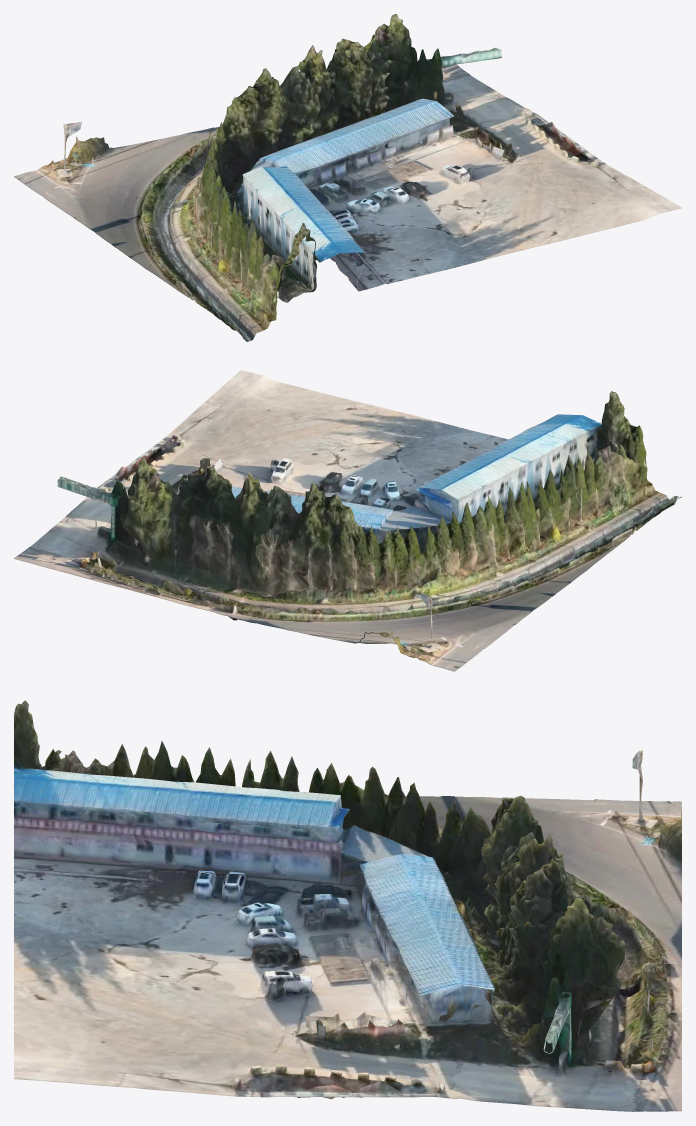
Rendered from BlockBBBB_L18_40.glb.
3 views of the same model, one above another, from view 1: azimuth 30°, elevation 25°; view 2: azimuth 150°, elevation 25°; view 3: azimuth 270°, elevation 25° (orthographic). The views are drawn at different scales.
Parts seen in each view (by area): view 1: rtc; view 2: rtc; view 3: rtc.
Boxes of the visible parts, left/top/right/bottom form: rtc: left=14, top=14, right=681, bottom=341; rtc: left=14, top=370, right=681, bottom=671; rtc: left=14, top=700, right=681, bottom=1111.
Bounding box in the file's own units: 69.16 × 18.38 × 61.65.
2 materials, 2 textured.
